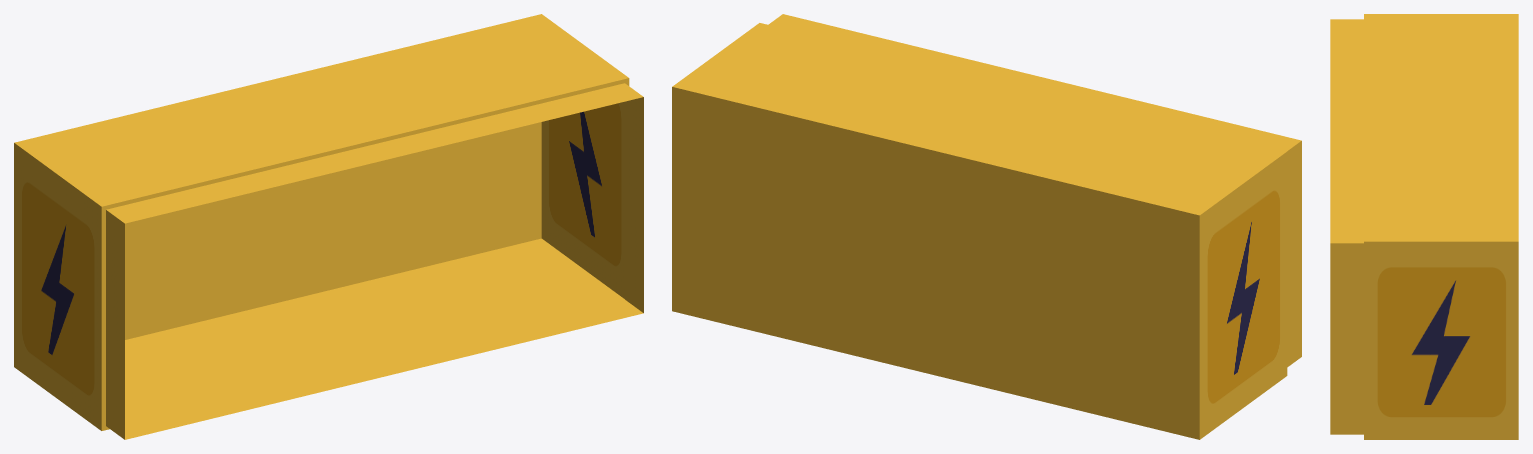
The model's file is Battery 1.fbx.
3 renders of one model, left to right at view 1: azimuth 30°, elevation 25°; view 2: azimuth 150°, elevation 25°; view 3: azimuth 270°, elevation 25°, orthographic. The views are drawn at different scales.
Parts seen in each view (by area): view 1: Battery 1; view 2: Battery 1; view 3: Battery 1.
Part boxes in pixels (x1=…): Battery 1: x1=14, y1=14, x2=643, y2=439; Battery 1: x1=672, y1=14, x2=1301, y2=439; Battery 1: x1=1330, y1=14, x2=1518, y2=439.
Bounding box in the file's own units: 11.68 × 4.75 × 4.08.
